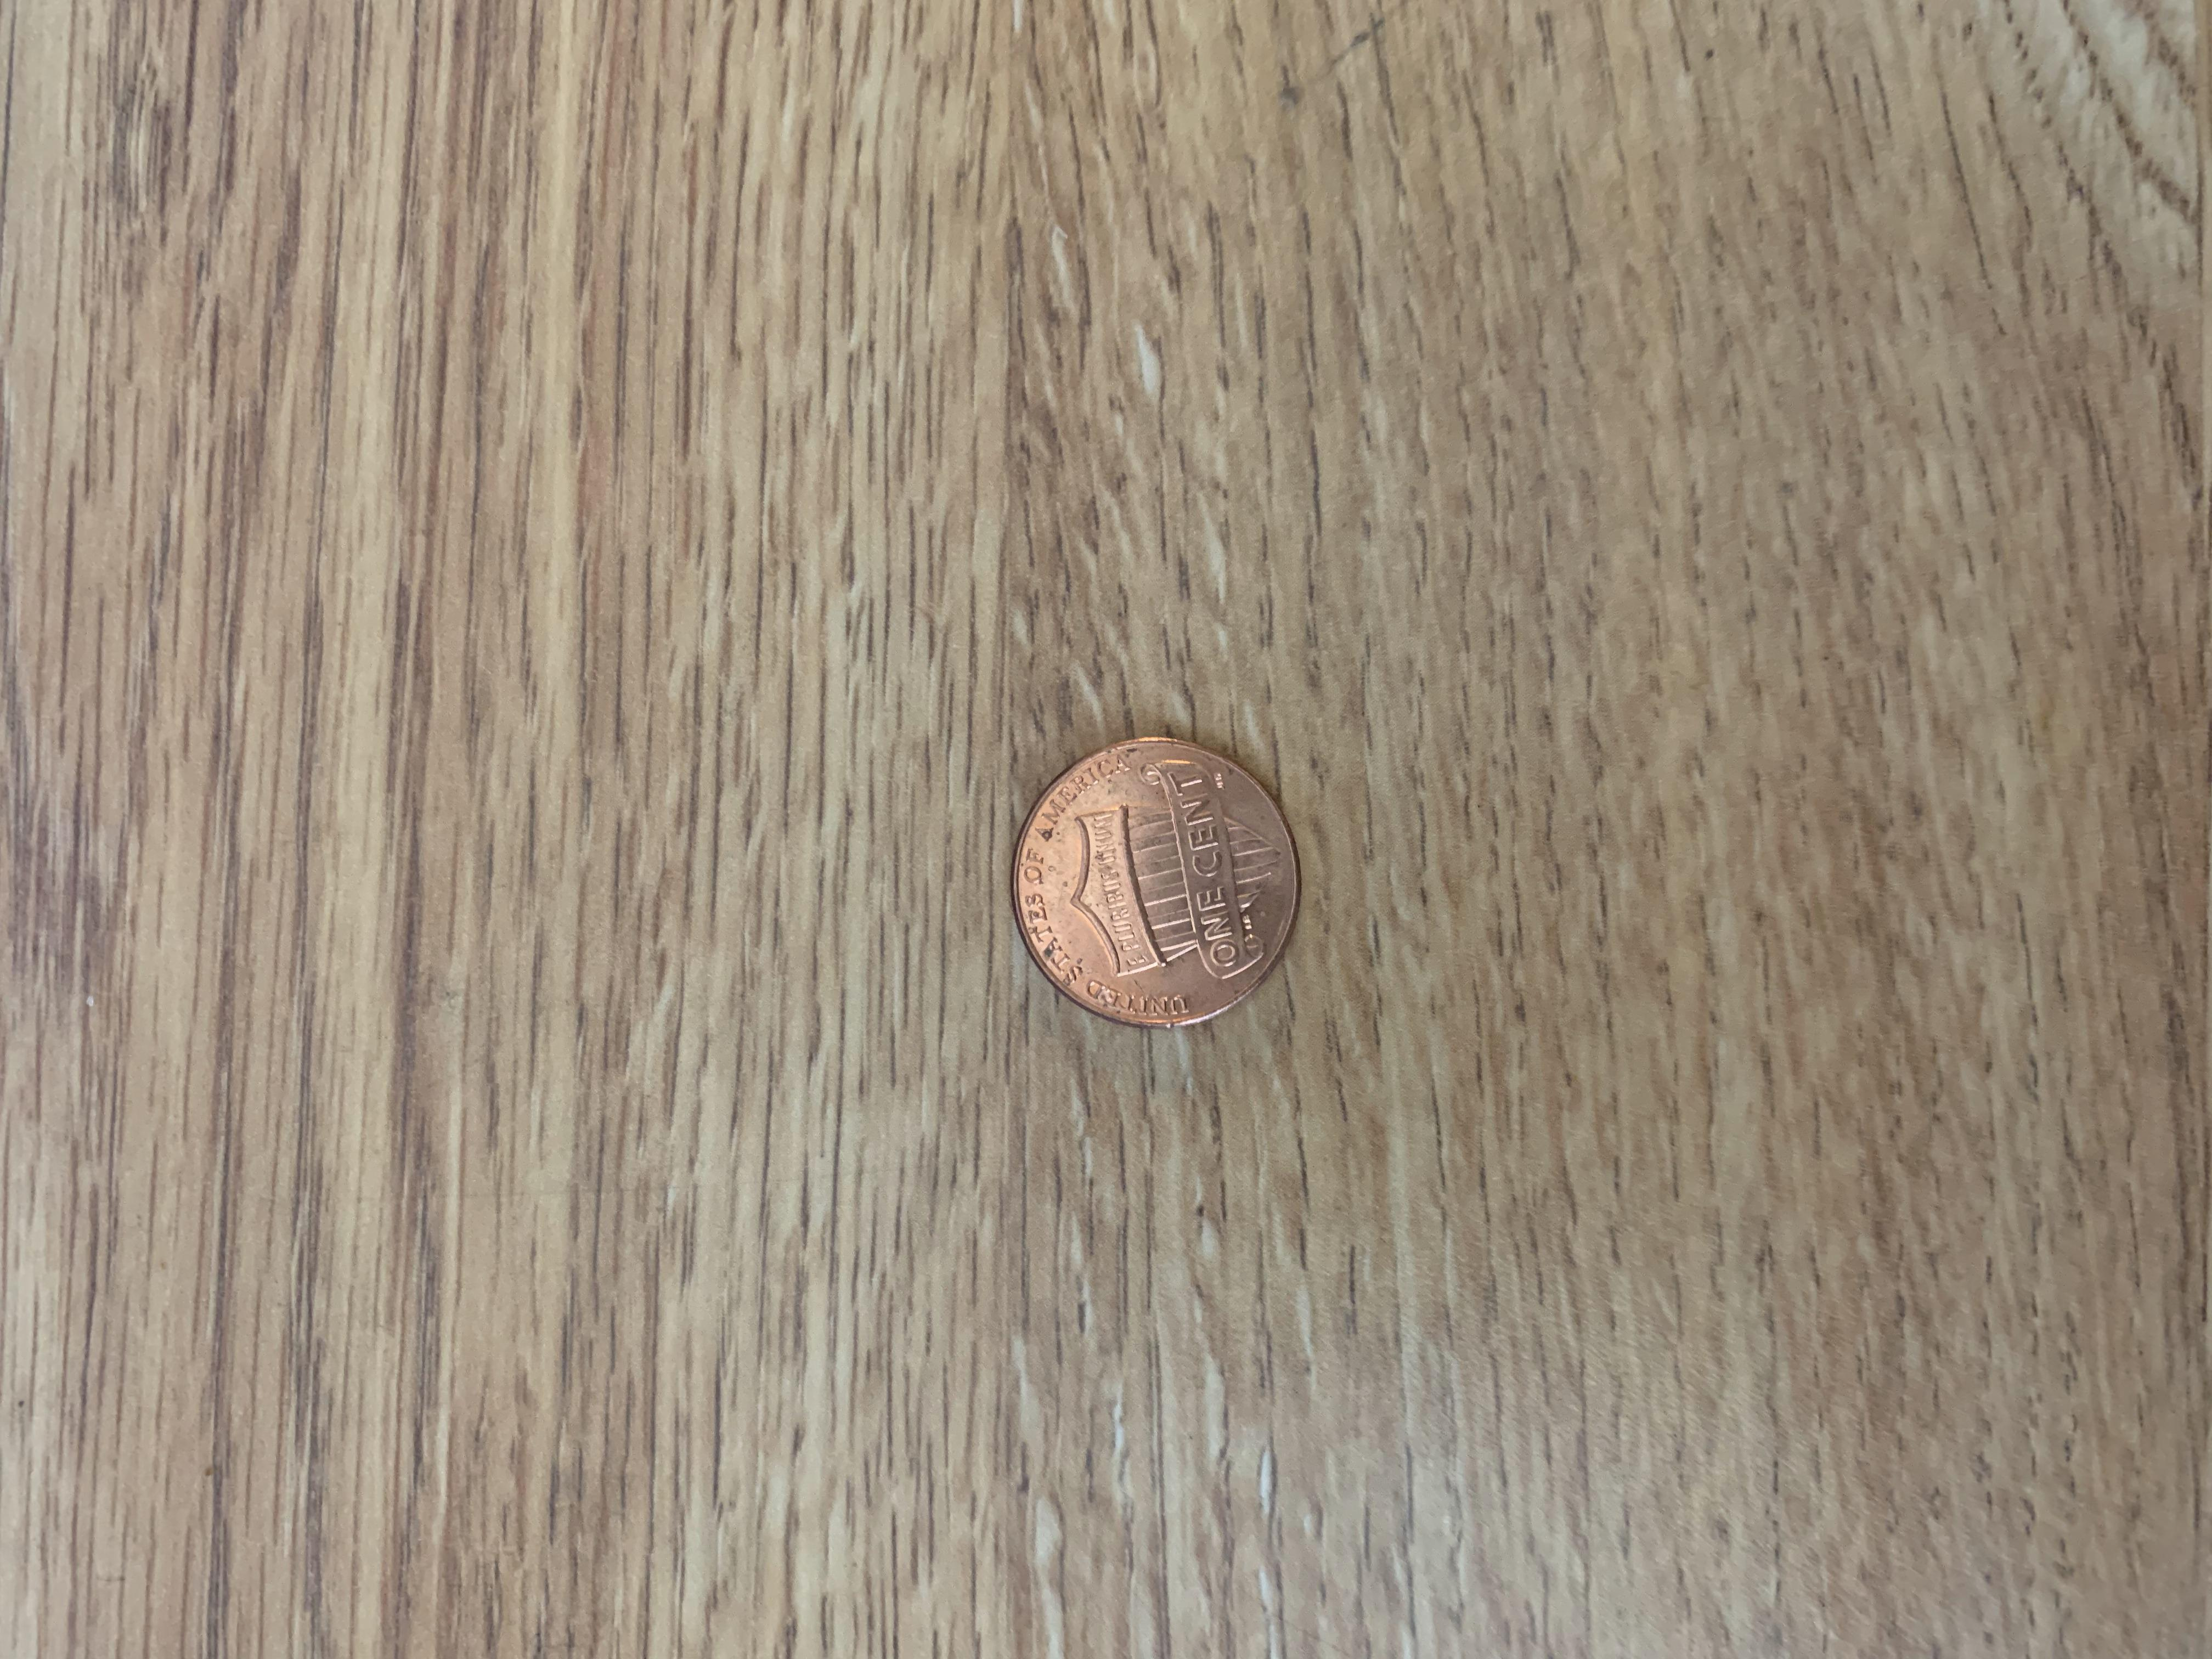Penny: (1001, 728, 1310, 1044)
